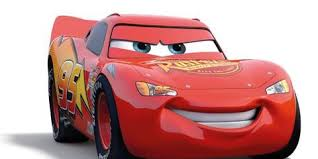mcqueen: (46, 11, 303, 159)
